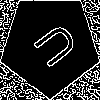U: (25, 19, 80, 76)
